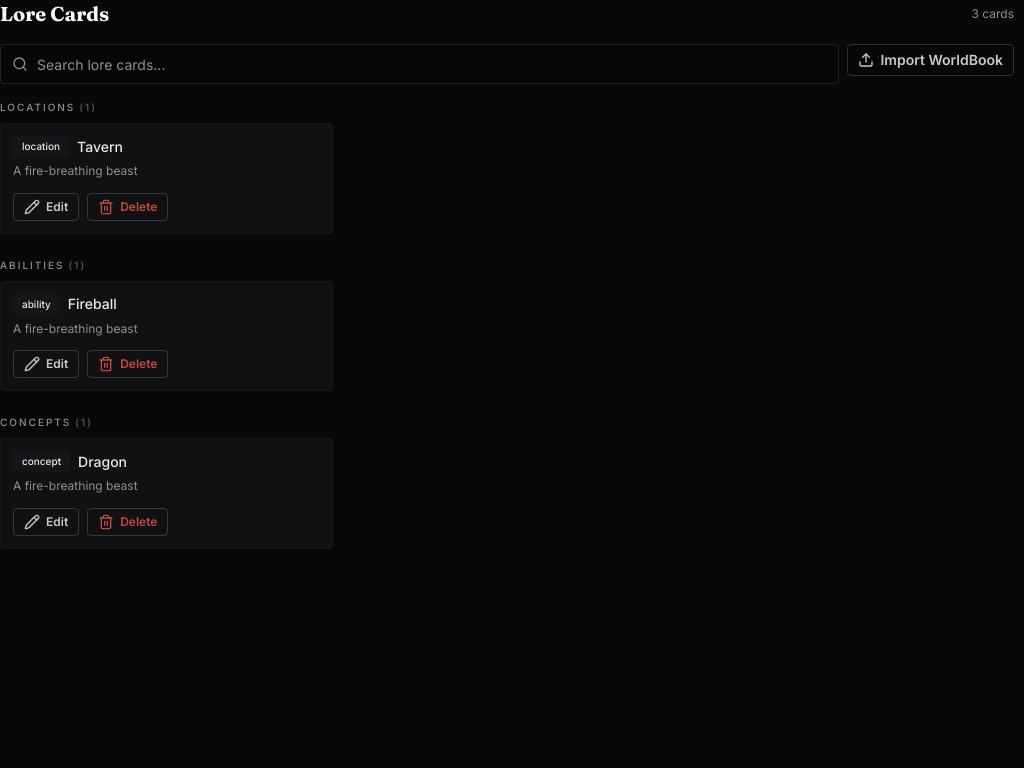
Test case: LoreSection › edits a lore card and refreshes
Click the button with aria-label "edit dragon". click: [46, 522]
box: [13, 508, 79, 536]
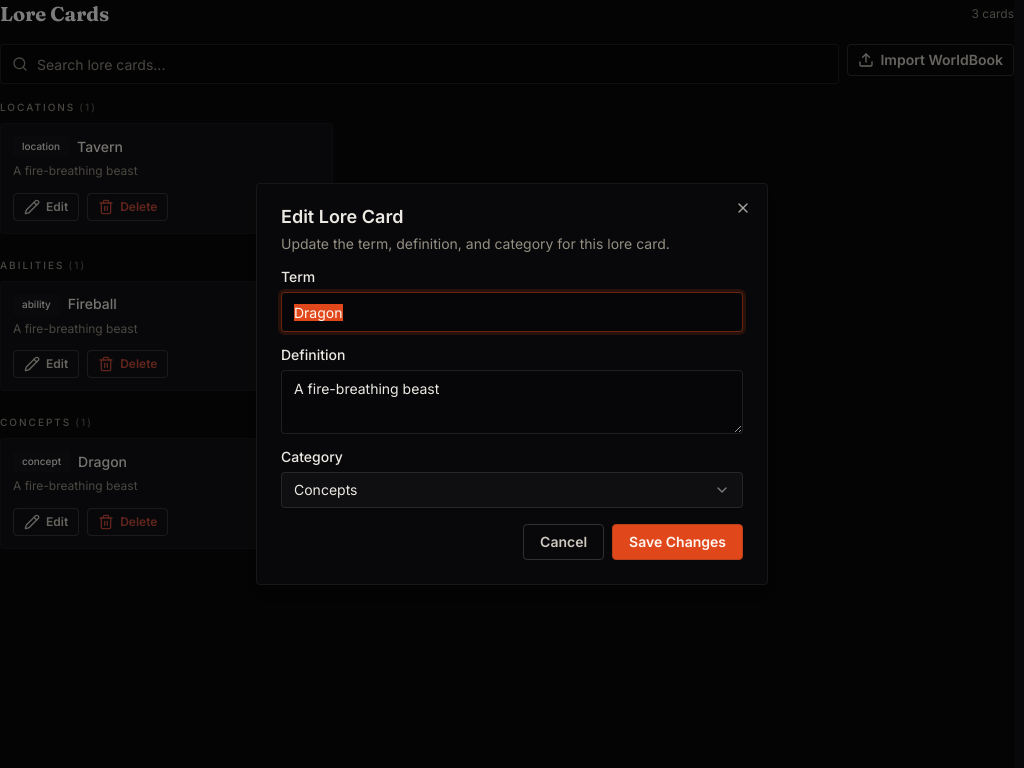
Replace the text in the field labelled "Term" with "The Black Spire". click: [512, 312]
box: [281, 292, 743, 332]
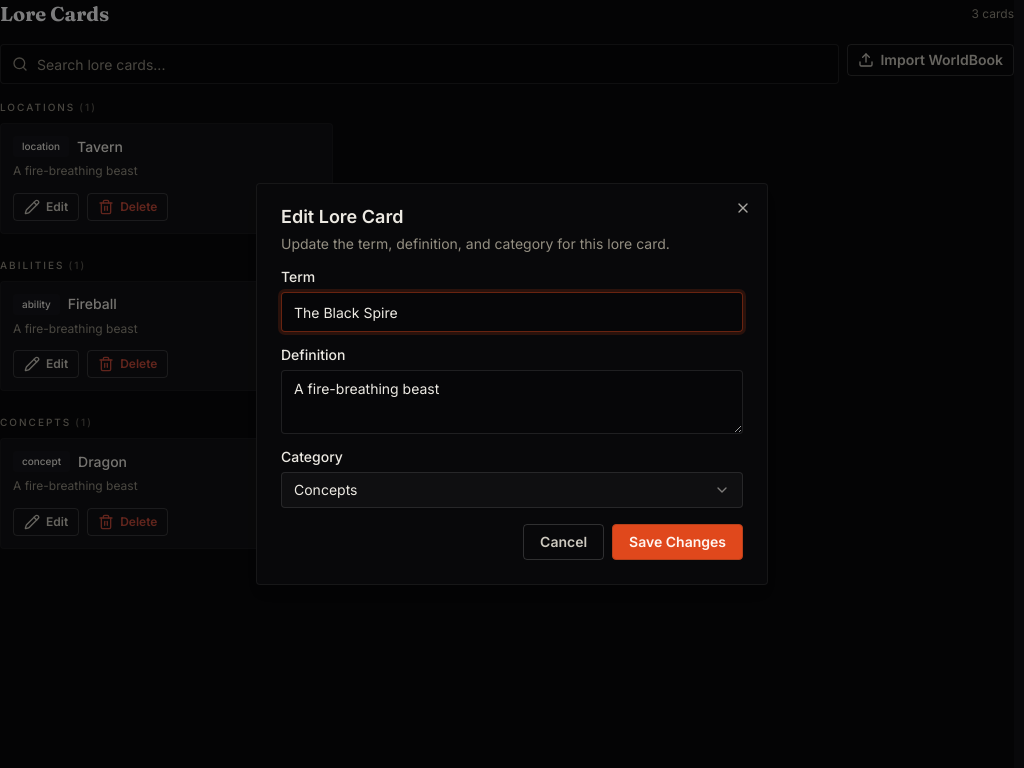
Replace the text in the text box labelled "Definition" with "A ruined tower watching the northern pass.". click: [512, 402]
box: [281, 370, 743, 434]
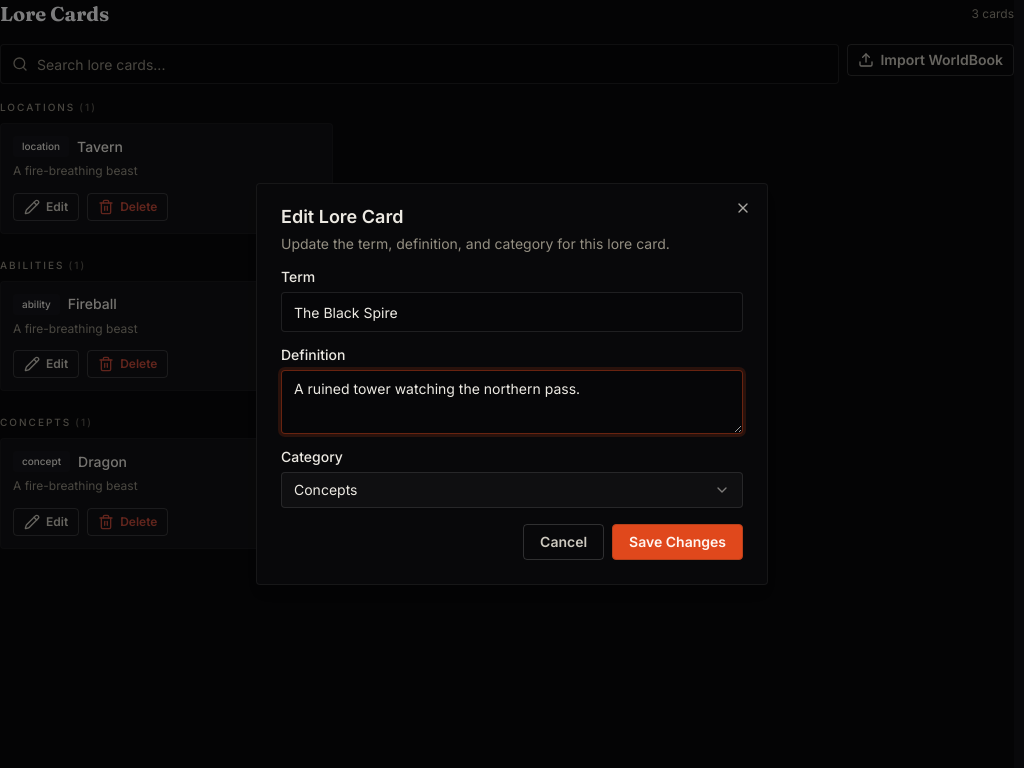
Click the button "Save Changes". click: [678, 542]
box: [612, 524, 743, 560]
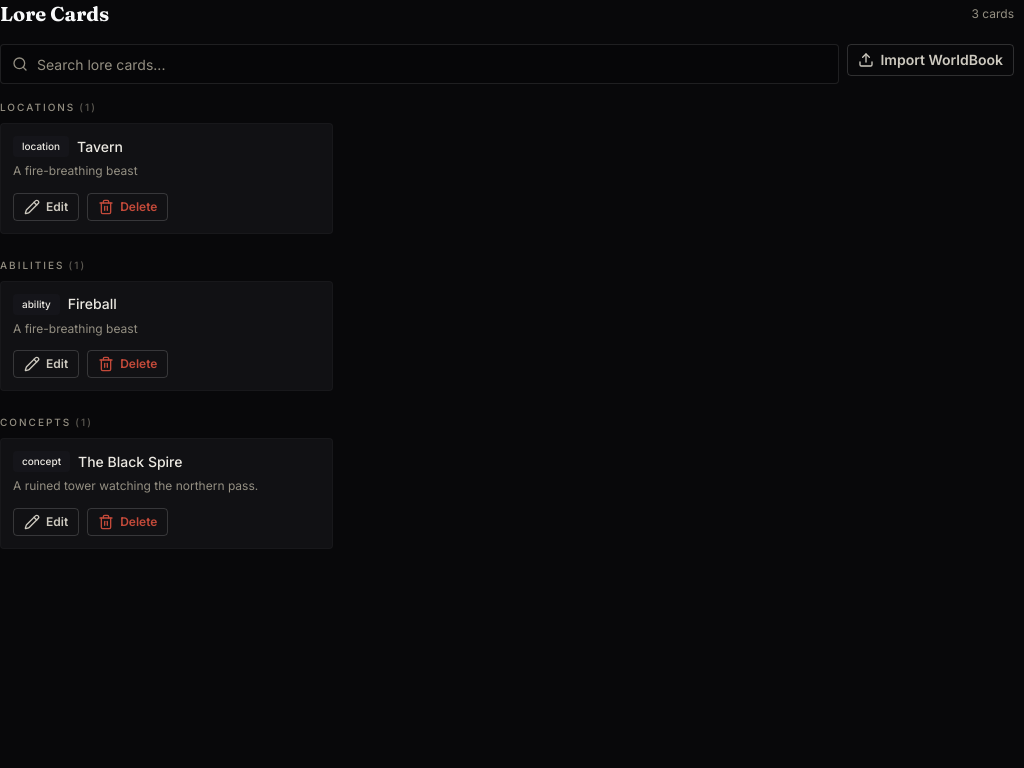
Result: the text "The Black Spire" is shown at [78, 452, 182, 472]
Result: the heading "Edit Lore Card" is gone
